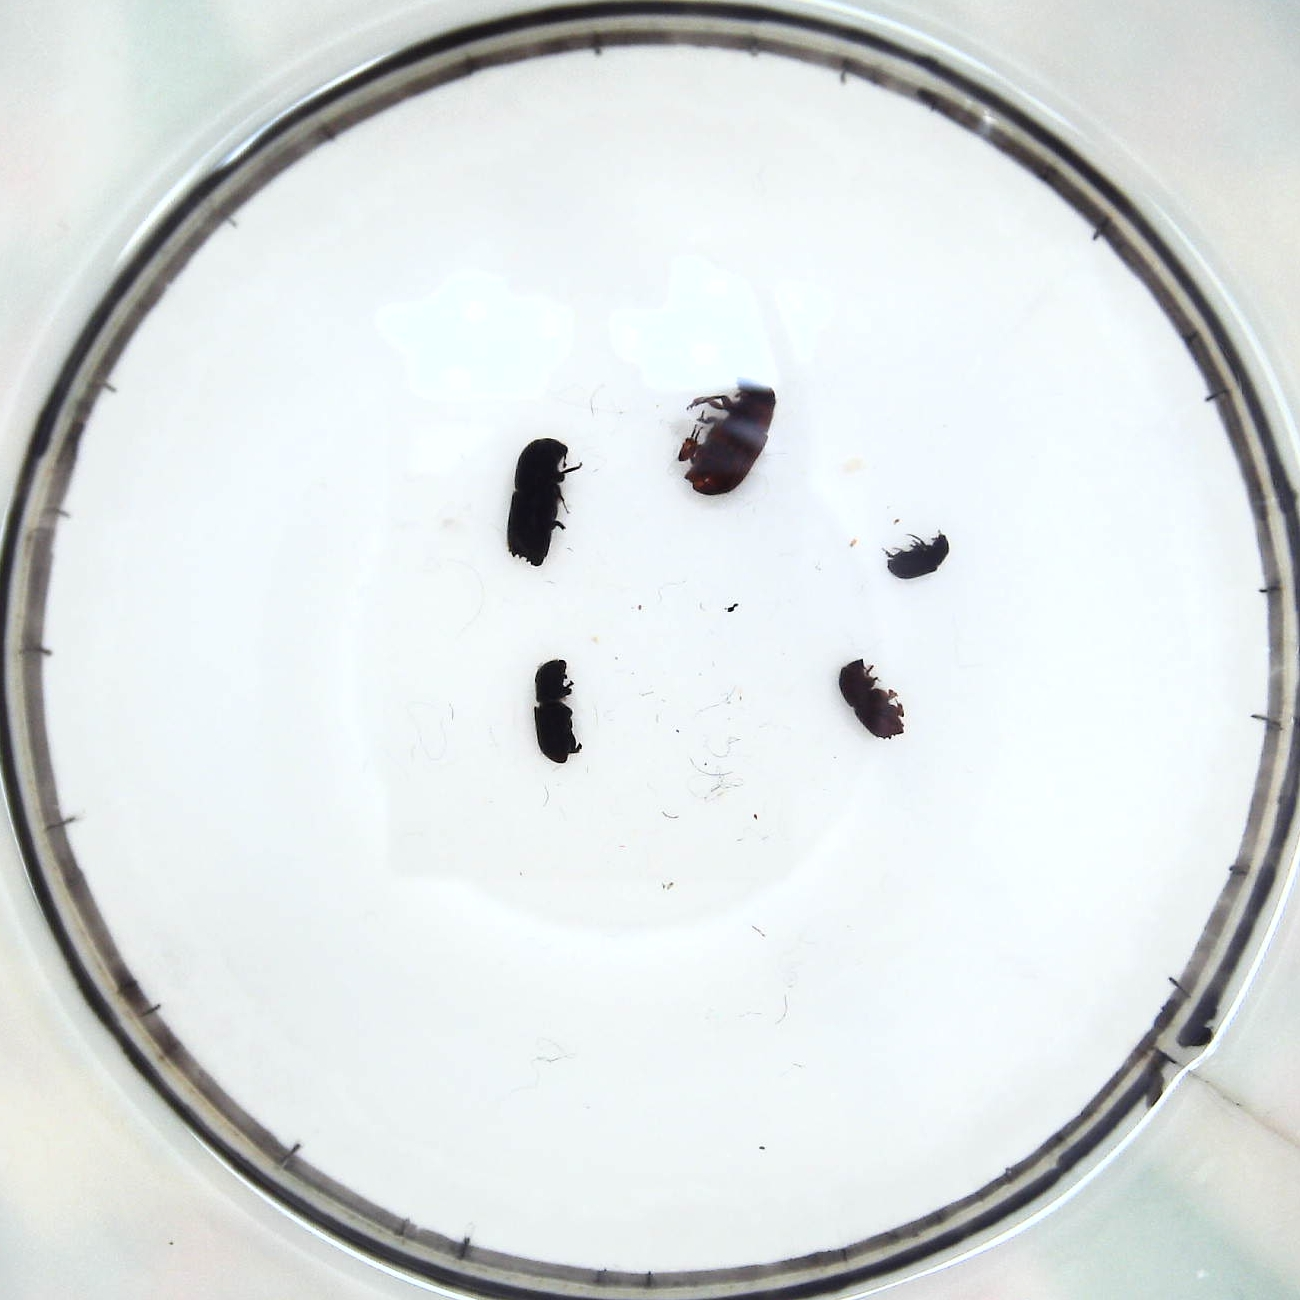Boerner: (510, 438, 579, 565)
Leconte: (680, 380, 780, 493)
Linnaeus: (833, 654, 914, 746)
armandi: (533, 654, 583, 762)
coleoptera: (881, 529, 960, 583)
